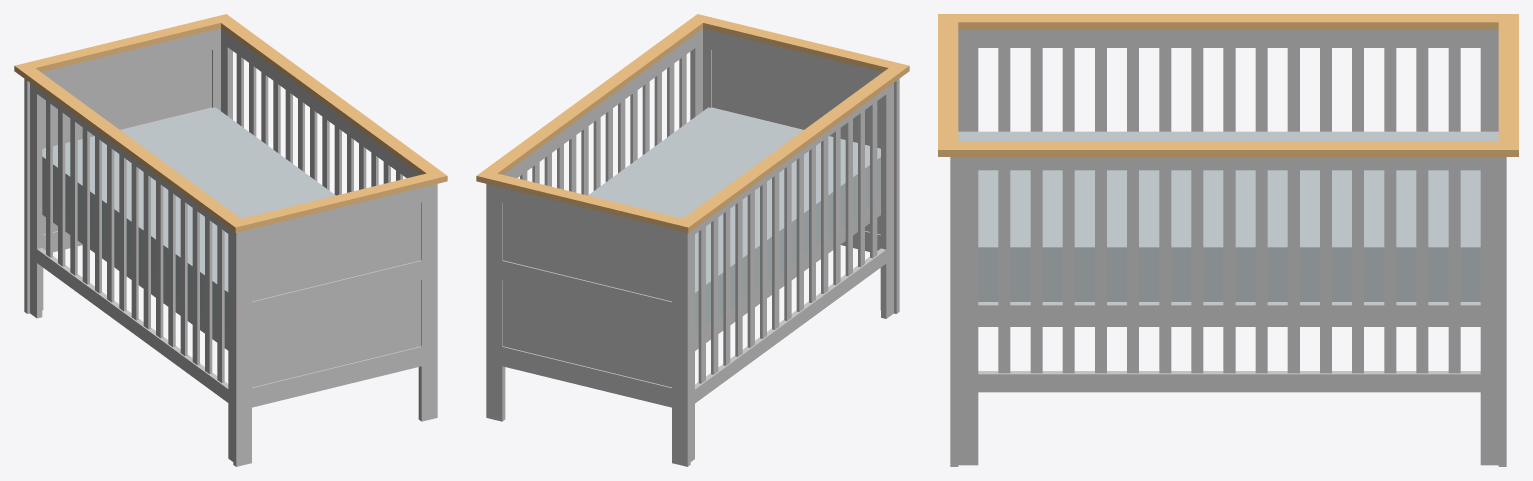
Rendered from 婴儿床_048.glb.
3 renders of one model, left to right at view 1: azimuth 30°, elevation 25°; view 2: azimuth 150°, elevation 25°; view 3: azimuth 270°, elevation 25°, orthographic. The views are drawn at different scales.
Parts seen in each view (by area): view 1: group322899734, group797499105, group50890476, group1988012609, group236094853, group82843849; view 2: group1988012609, group797499105, group50890476, group322899734, group236094853, group82843849; view 3: group236094853, group50890476, group797499105, group1473972908, group322899734, group1988012609.
Boxes of the visible parts, x1,y1,x2,y2 form: group322899734: [228, 170, 447, 466]; group797499105: [22, 68, 240, 461]; group50890476: [42, 107, 335, 333]; group1988012609: [14, 14, 233, 313]; group236094853: [221, 19, 439, 195]; group82843849: [42, 198, 228, 350]; group1988012609: [476, 170, 695, 466]; group797499105: [683, 68, 901, 461]; group50890476: [588, 107, 880, 334]; group322899734: [690, 14, 909, 313]; group236094853: [484, 19, 702, 195]; group82843849: [695, 199, 880, 350]; group236094853: [958, 141, 1500, 465]; group50890476: [958, 131, 1498, 301]; group797499105: [958, 14, 1498, 131]; group1473972908: [978, 302, 1480, 326]; group322899734: [938, 14, 958, 466]; group1988012609: [1498, 14, 1518, 466].
Bounding box in the file's own units: 0.8 × 0.88 × 1.45.
